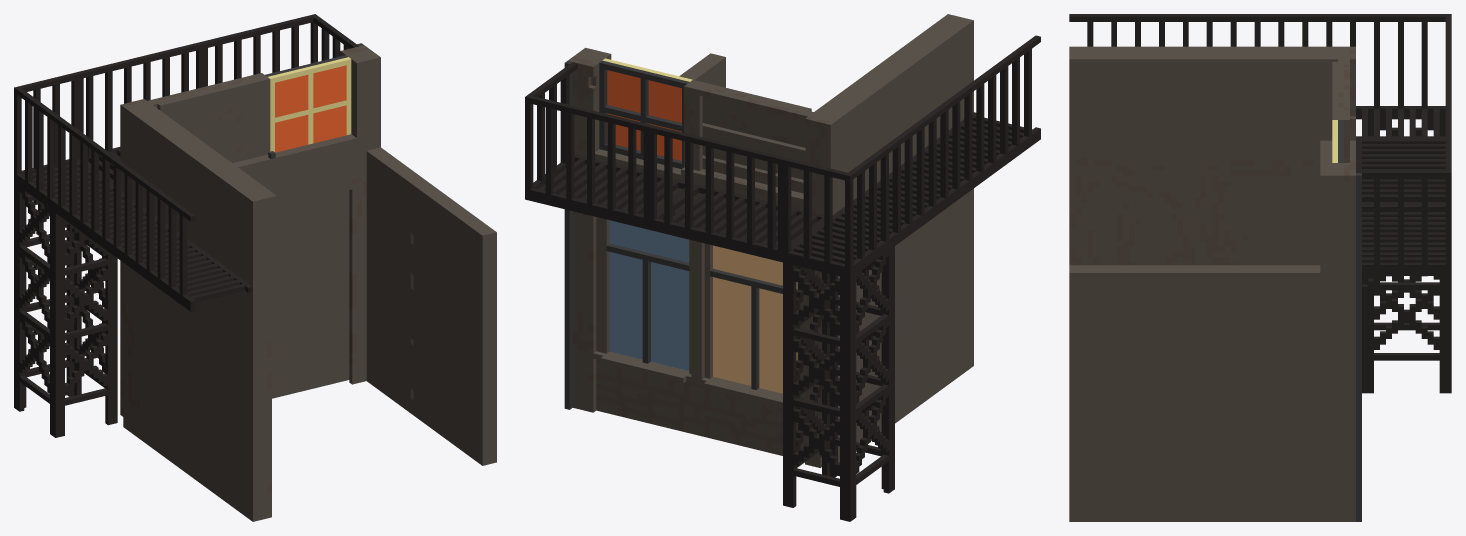
Rendered from MapWIP_v02-9.obj.
3 renders of one model, left to right at view 1: azimuth 30°, elevation 25°; view 2: azimuth 150°, elevation 25°; view 3: azimuth 270°, elevation 25°, orthographic. The views are drawn at different scales.
Bounding box in the file's own units: 6.4 × 6.4 × 6.4.
1 material, 1 textured.
